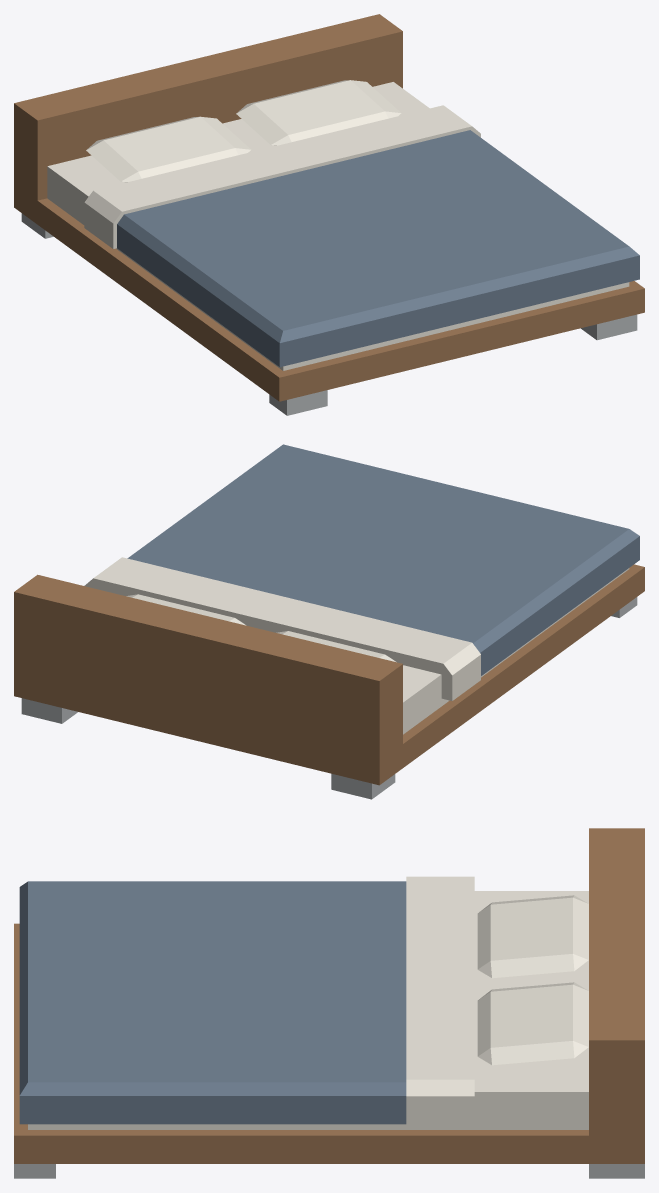
The model's file is bed_double.glb.
3 renders of one model, top to bottom at view 1: azimuth 30°, elevation 25°; view 2: azimuth 150°, elevation 25°; view 3: azimuth 270°, elevation 25°, orthographic. The views are drawn at different scales.
Visible parts, largest first — view 1: bed_double_5, bed_double_1, bed_double_6, bed_double_0, bed_double_3, bed_double_4, bed_double_2; view 2: bed_double_5, bed_double_1, bed_double_6, bed_double_0, bed_double_2, bed_double_3, bed_double_4; view 3: bed_double_5, bed_double_1, bed_double_6, bed_double_0, bed_double_3, bed_double_4, bed_double_2.
Boxes of the visible parts, box(x1,y1,x2,y2) form: bed_double_5: box(117, 130, 639, 367); bed_double_1: box(14, 14, 644, 401); bed_double_6: box(84, 105, 480, 248); bed_double_0: box(47, 82, 629, 370); bed_double_3: box(236, 80, 401, 145); bed_double_4: box(86, 116, 250, 182); bed_double_2: box(21, 213, 637, 415); bed_double_5: box(127, 444, 639, 675); bed_double_1: box(14, 564, 644, 785); bed_double_6: box(84, 557, 480, 700); bed_double_0: box(403, 568, 629, 734); bed_double_2: box(21, 597, 637, 799); bed_double_3: box(126, 594, 246, 625); bed_double_4: box(276, 631, 396, 662); bed_double_5: box(19, 881, 406, 1124); bed_double_1: box(14, 828, 644, 1163); bed_double_6: box(406, 876, 474, 1126); bed_double_0: box(28, 891, 588, 1129); bed_double_3: box(477, 982, 588, 1065); bed_double_4: box(477, 895, 588, 978); bed_double_2: box(14, 1164, 644, 1178).
Bounding box in the file's own units: 1.6 × 0.5 × 2.
